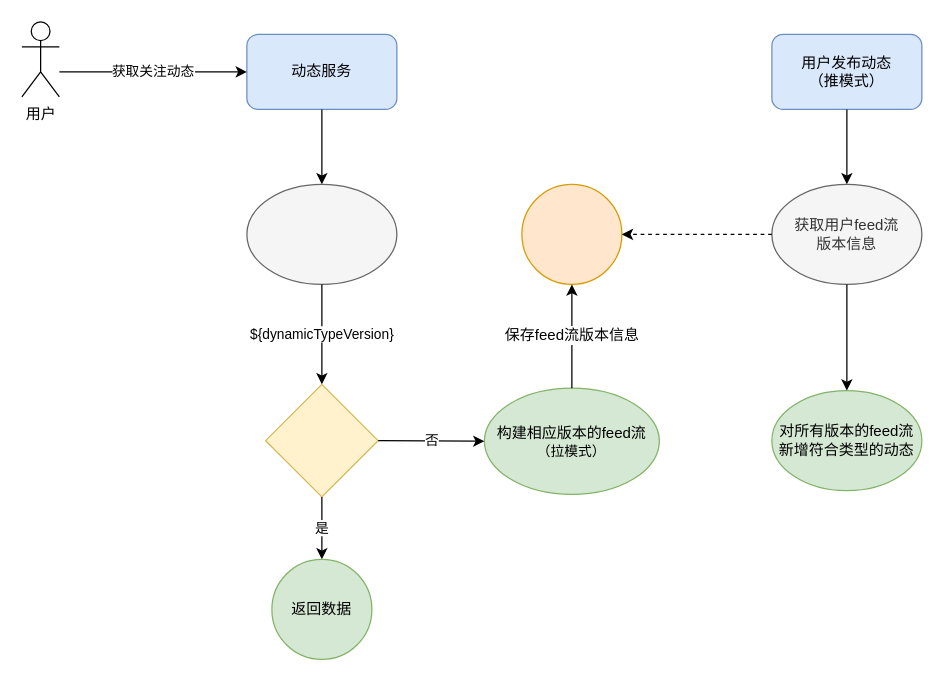
This 944x681 diagram has some shape labels left out. The centre of each missing label's shape, as x and y in pixels:
判断是否存在 相应动态类型的feed流: pixel 321 440
根据plat和version 获取动态类型版本: pixel 321 233
活跃用户信息: pixel 571 233
